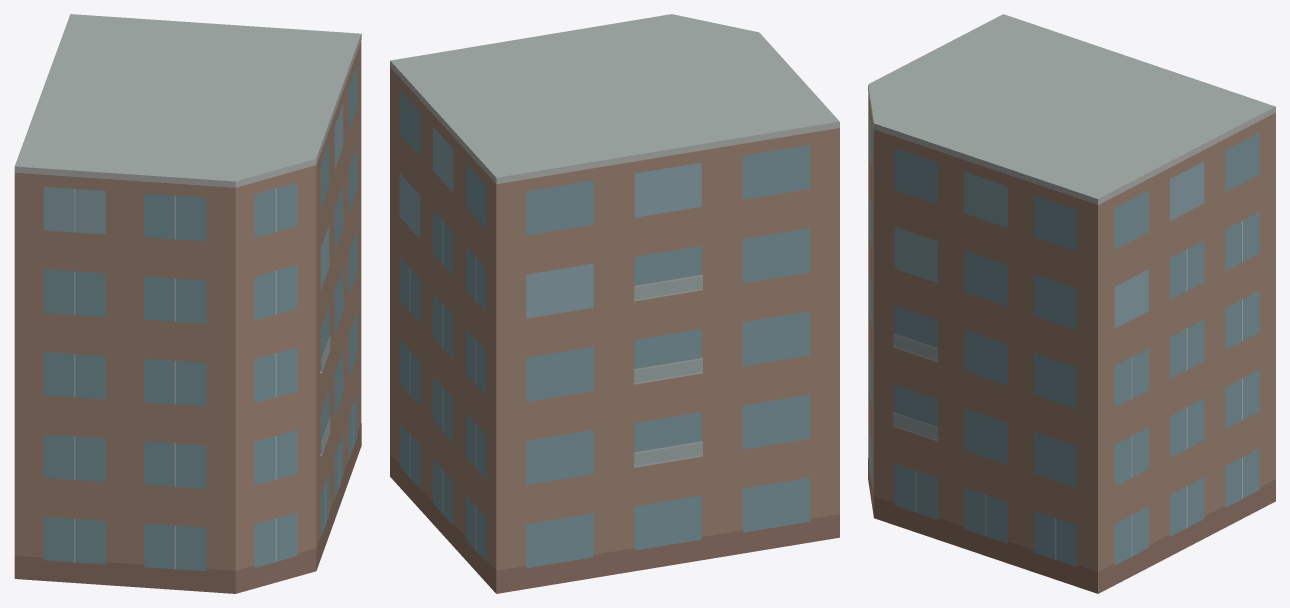
Rendered from survey-upis-32672973.glb.
3 views of the same model, side by side, from view 1: azimuth 30°, elevation 25°; view 2: azimuth 150°, elevation 25°; view 3: azimuth 270°, elevation 25° (orthographic). The views are drawn at different scales.
Visible parts, largest first — view 1: survey-upis-32672973.tmp; view 2: survey-upis-32672973.tmp; view 3: survey-upis-32672973.tmp.
Part boxes in pixels (x1,y1,x2,y2): survey-upis-32672973.tmp: (14, 14, 361, 593); survey-upis-32672973.tmp: (390, 14, 839, 593); survey-upis-32672973.tmp: (868, 14, 1275, 593).
Bounding box in the file's own units: 16.1 × 16 × 14.99.
